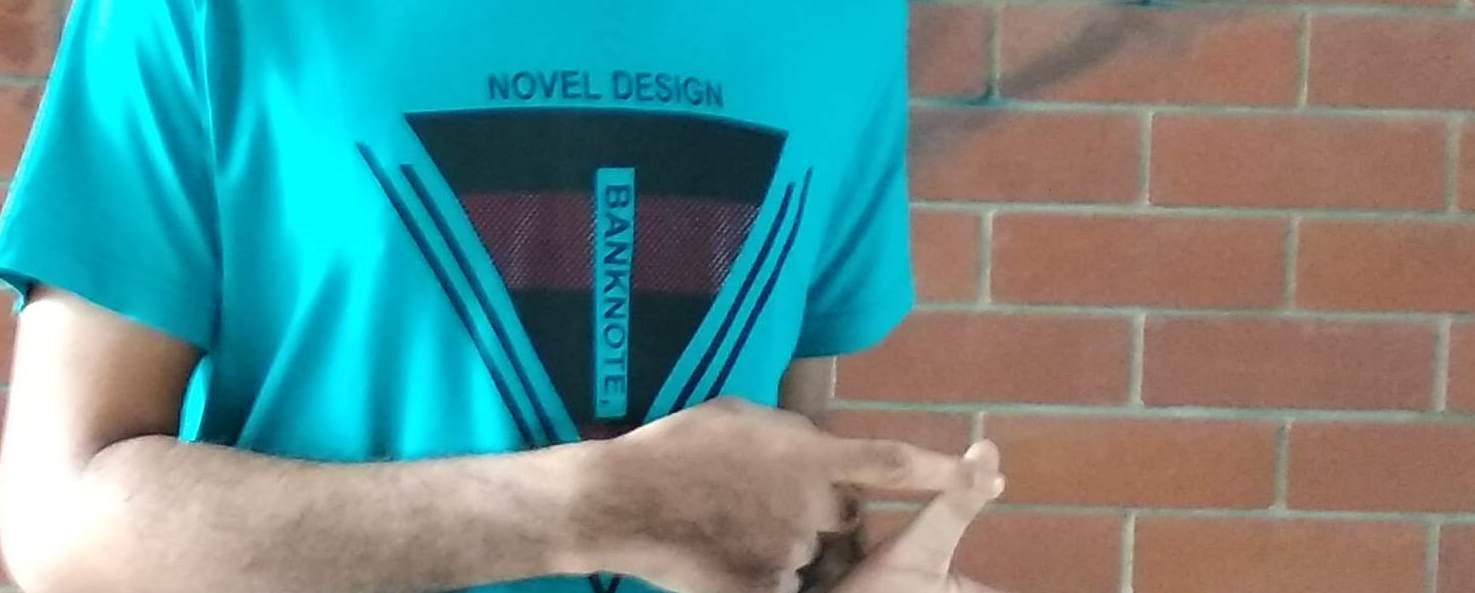a: (613, 396, 1002, 593)
